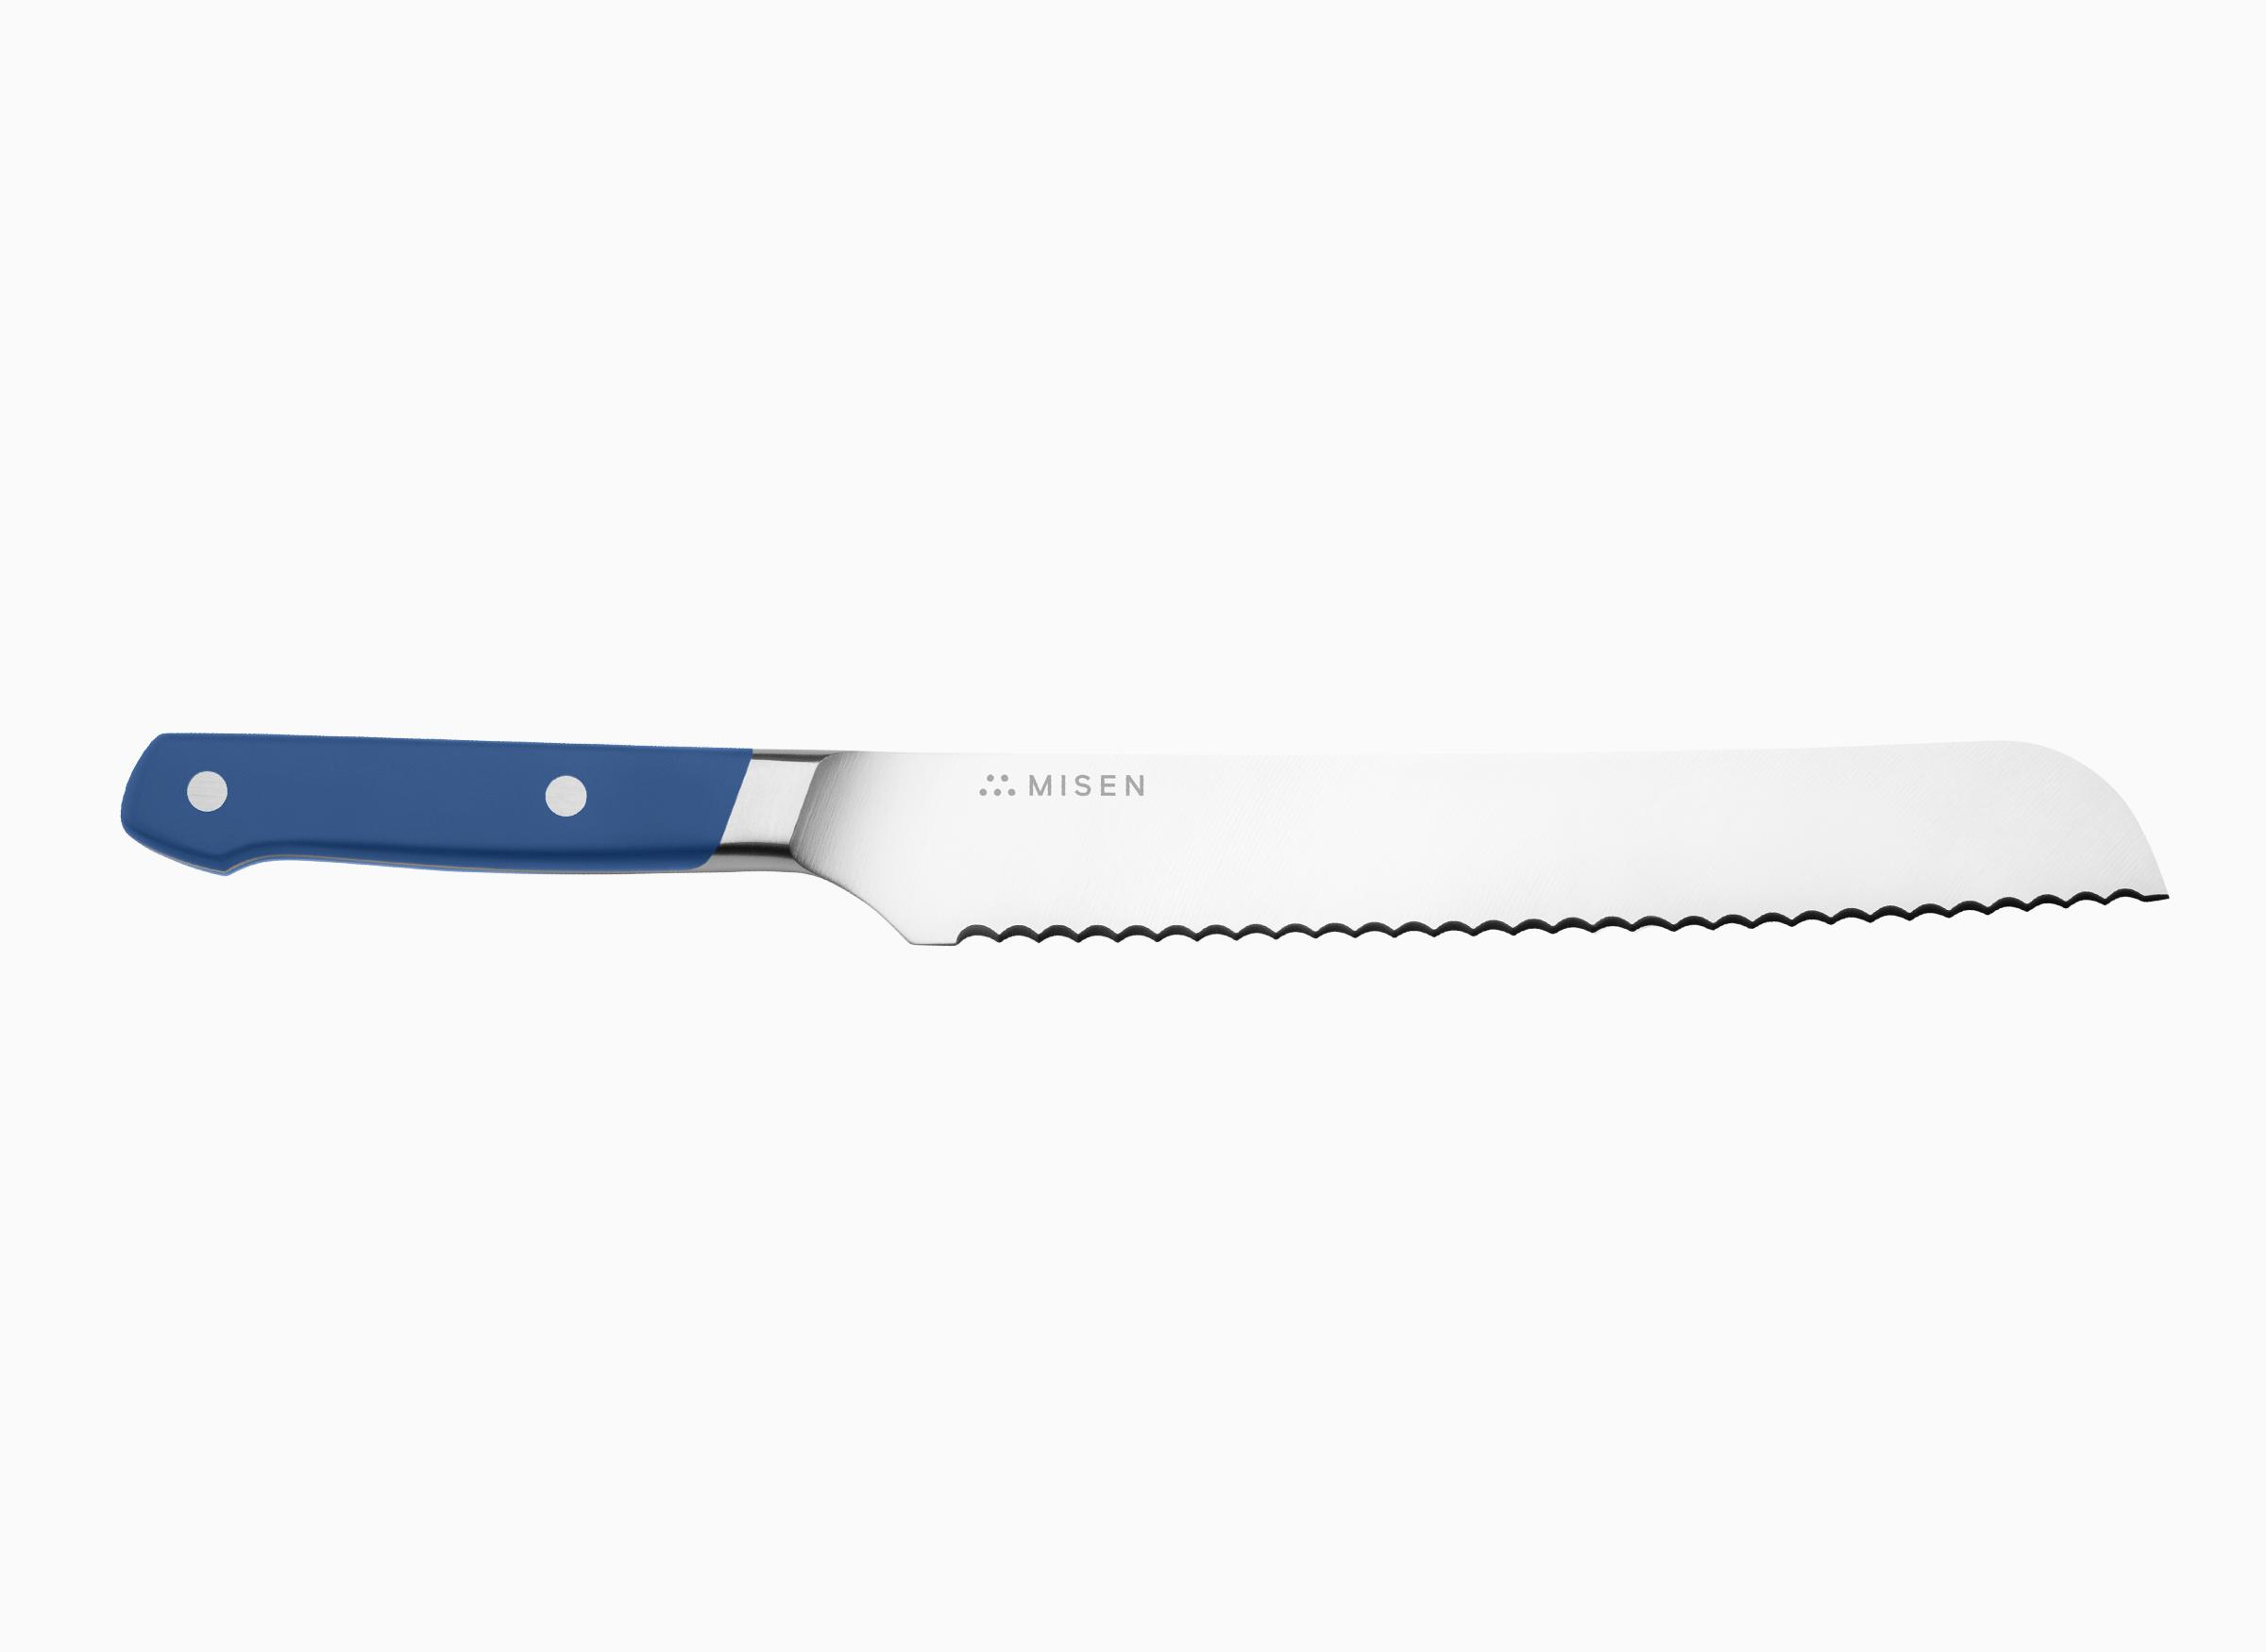Knife: (120, 730, 2169, 948)
